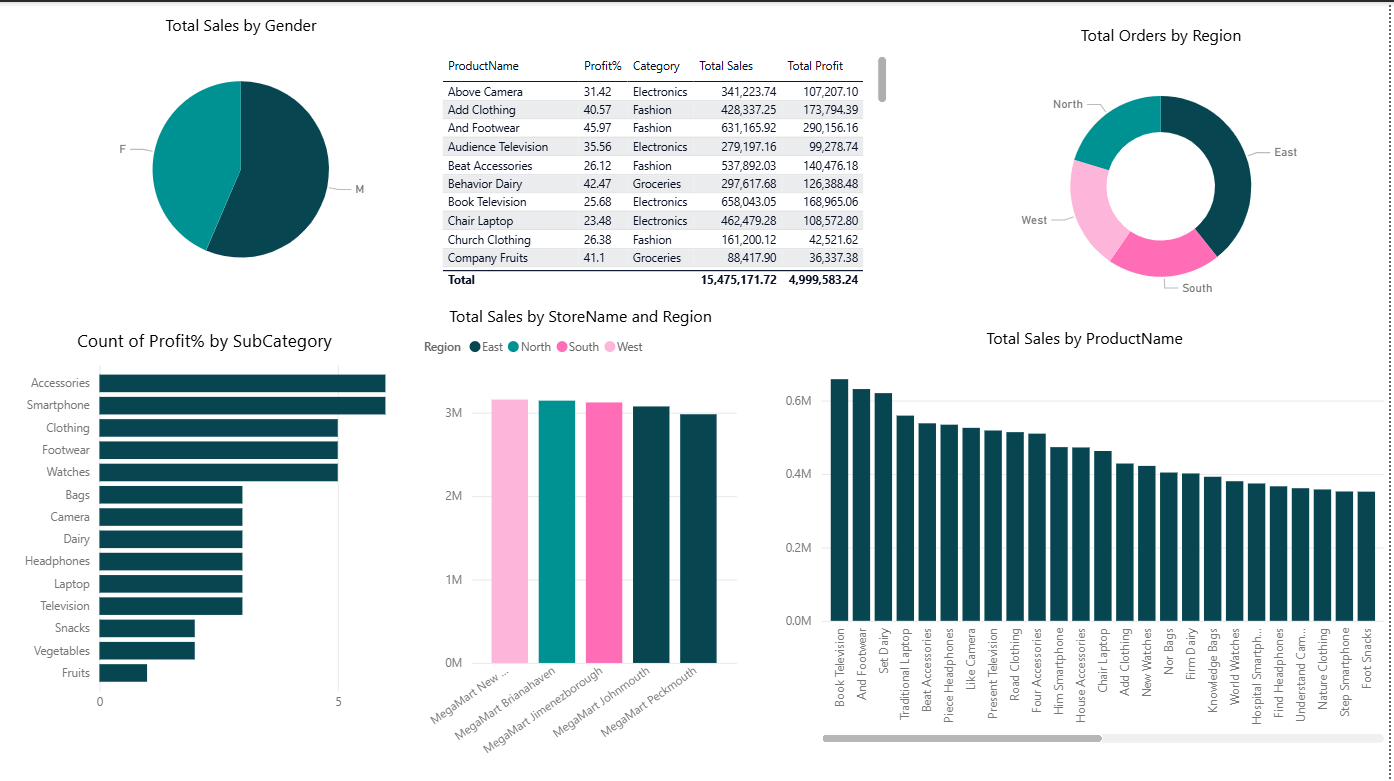

The page's visual inventory and layout, read from the dashboard file:
{"tool":"powerbi","page":{"name":"Product Performance","canvas":[1280,720],"ordinal":1},"visuals":[{"type":"barChart","title":"Total Profit by SubCategory","fields":{"Y":["Products.Profit%"],"Category":["Products.SubCategory"]},"box":[17.4,300,348.8,360.5],"z":0},{"type":"columnChart","fields":{"Category":["Products.ProductName"],"Y":["Customers.Total Sales"]},"box":[719.8,298.8,560.5,387.2],"z":1000},{"type":"tableEx","fields":{"Values":["Products.ProductName","Products.Profit%","Products.Category","Customers.Total Sales","Customers.Total Profit"]},"box":[282.6,45.3,419.8,223.3],"z":2000},{"type":"donutChart","fields":{"Y":["Customers.Total Orders"],"Category":["Stores.Region"]},"box":[702.3,18.6,280.2,280.2],"z":3000},{"type":"pieChart","fields":{"Category":["Customers.Gender"],"Y":["Customers.Total Sales"]},"box":[0,23.3,282.6,267.4],"z":4000},{"type":"columnChart","fields":{"Category":["Stores.StoreName"],"Y":["Customers.Total Sales"],"Series":["Stores.Region"]},"box":[388.4,277.9,297.7,429.1],"z":5000},{"type":"textbox","box":[982.6,65.1,297.7,224.4],"z":5001}]}

Visuals, with their boxes in screenshot pixels (x1, y1, x2, y2), scaled from the page's 1280x720 canvas onto the 1394x781 screenshot:
"Total Profit by SubCategory" barChart: 19,325,399,716
columnChart - Products.ProductName x Customers.Total Sales: 784,324,1393,744
tableEx - Products.ProductName x Products.Profit%: 308,49,765,291
donutChart - Customers.Total Orders x Stores.Region: 765,20,1070,324
pieChart - Customers.Gender x Customers.Total Sales: 0,25,308,315
columnChart - Stores.StoreName x Customers.Total Sales: 423,301,747,767
textbox: 1070,71,1393,314
